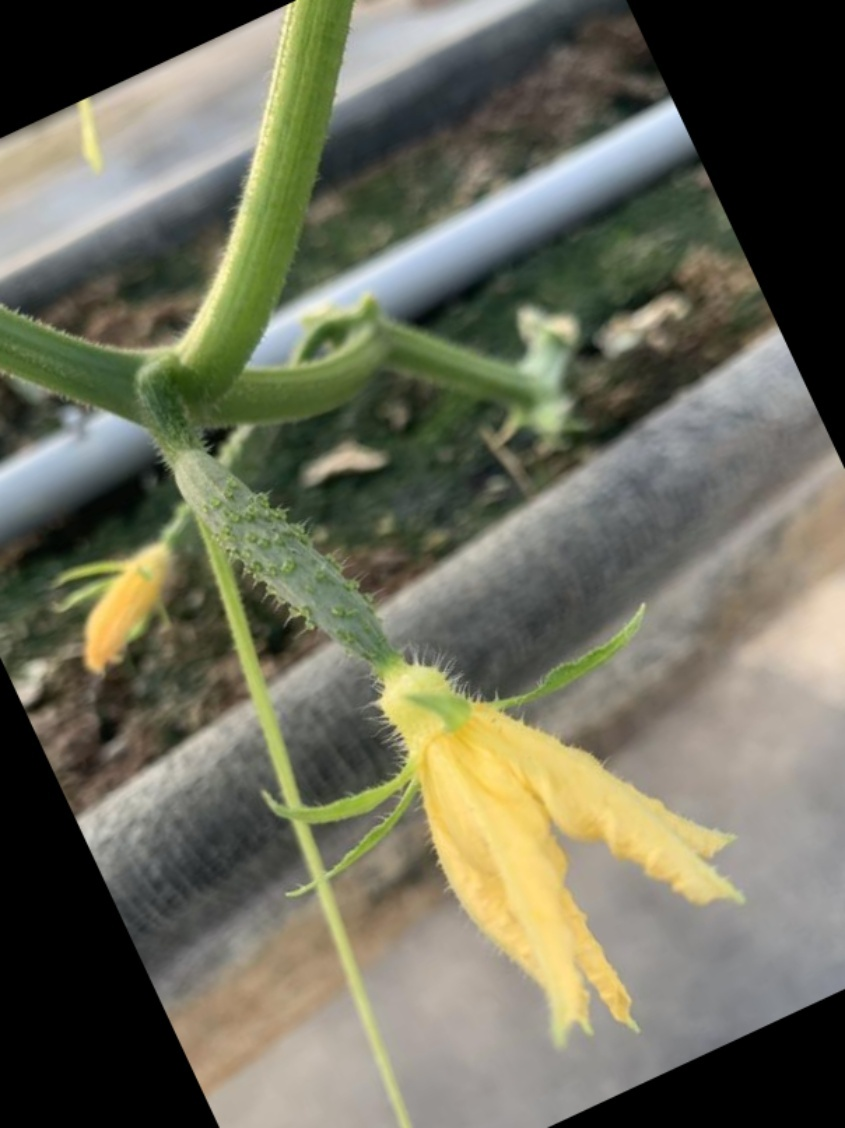bear: (189, 431, 711, 999)
